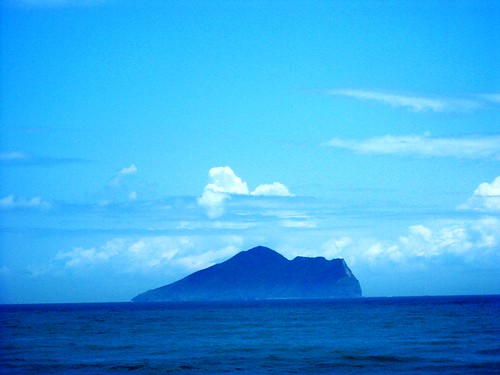turtleIsland: (127, 245, 362, 300)
